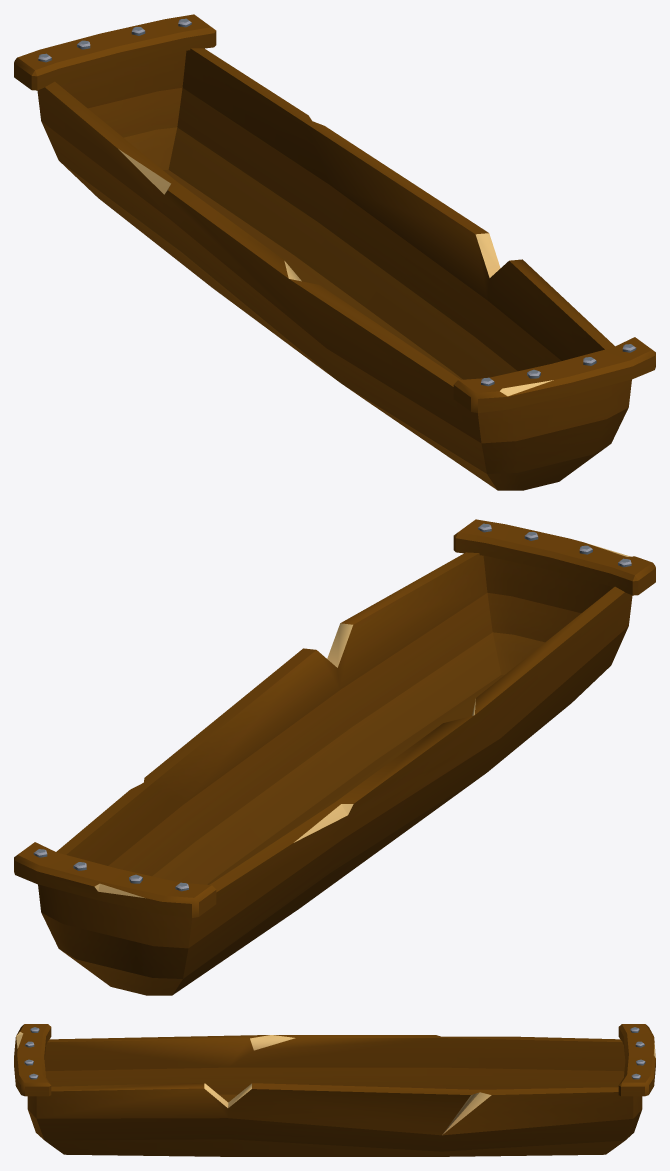
Rendered from Trough_1_B.glb.
The picture shows the model from 3 angles, top to bottom: view 1: azimuth 30°, elevation 25°; view 2: azimuth 150°, elevation 25°; view 3: azimuth 270°, elevation 25°; orthographic projection. The views are drawn at different scales.
Parts seen in each view (by area): view 1: Trough_1_B; view 2: Trough_1_B; view 3: Trough_1_B.
Part boxes in pixels (left/top/right/bottom): Trough_1_B: left=14, top=14, right=655, bottom=490; Trough_1_B: left=14, top=519, right=655, bottom=995; Trough_1_B: left=14, top=1024, right=655, bottom=1156.
Bounding box in the file's own units: 0.7368 × 0.509 × 3.25.
Materials: 2 (2 with a texture image).
